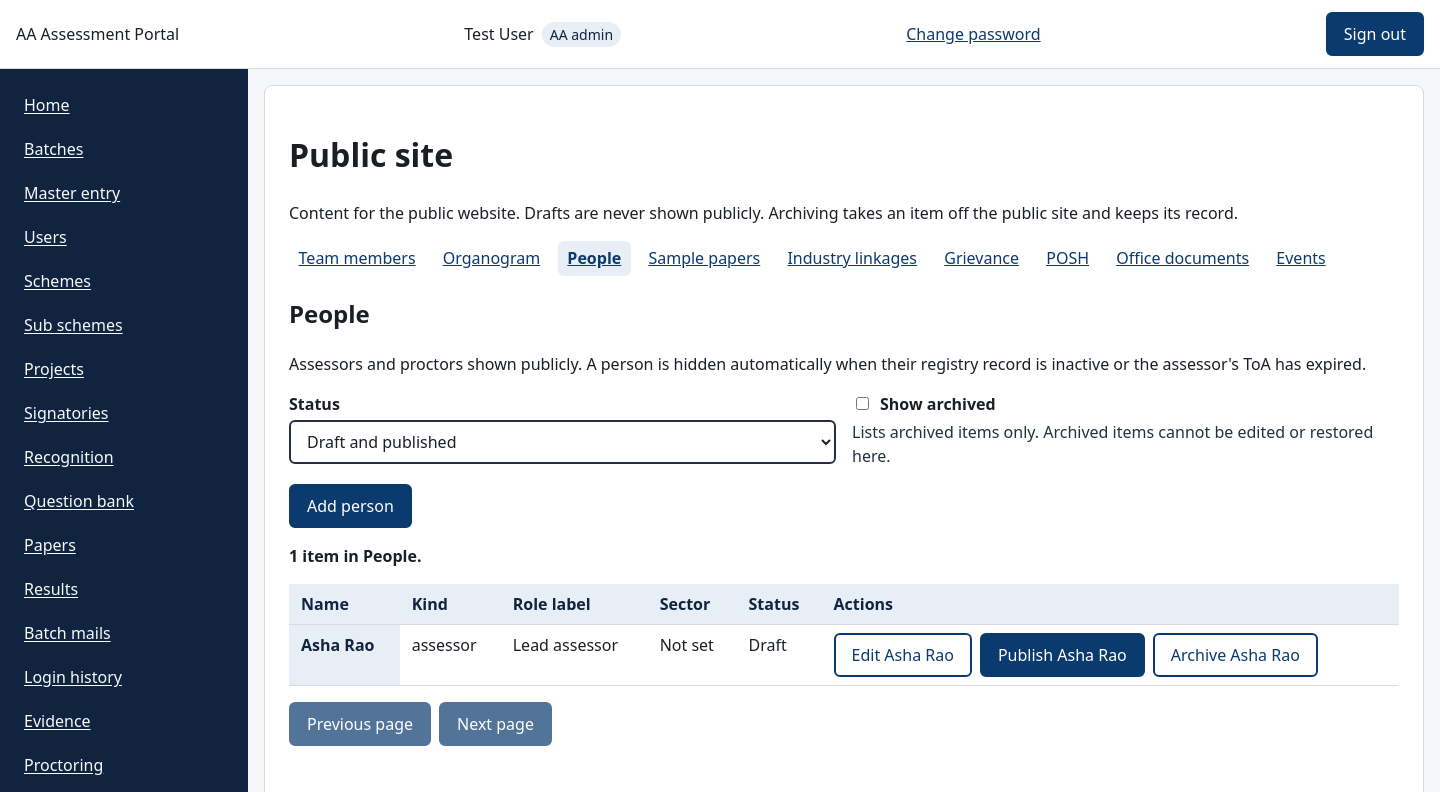
Test: explains CONSENT_REQUIRED in plain words when publishing without consent
What coordinates should you click on to do the following:
click the button "Publish Asha Rao"
I would click on:
 (1062, 655)
Its box is [980,633,1145,677].
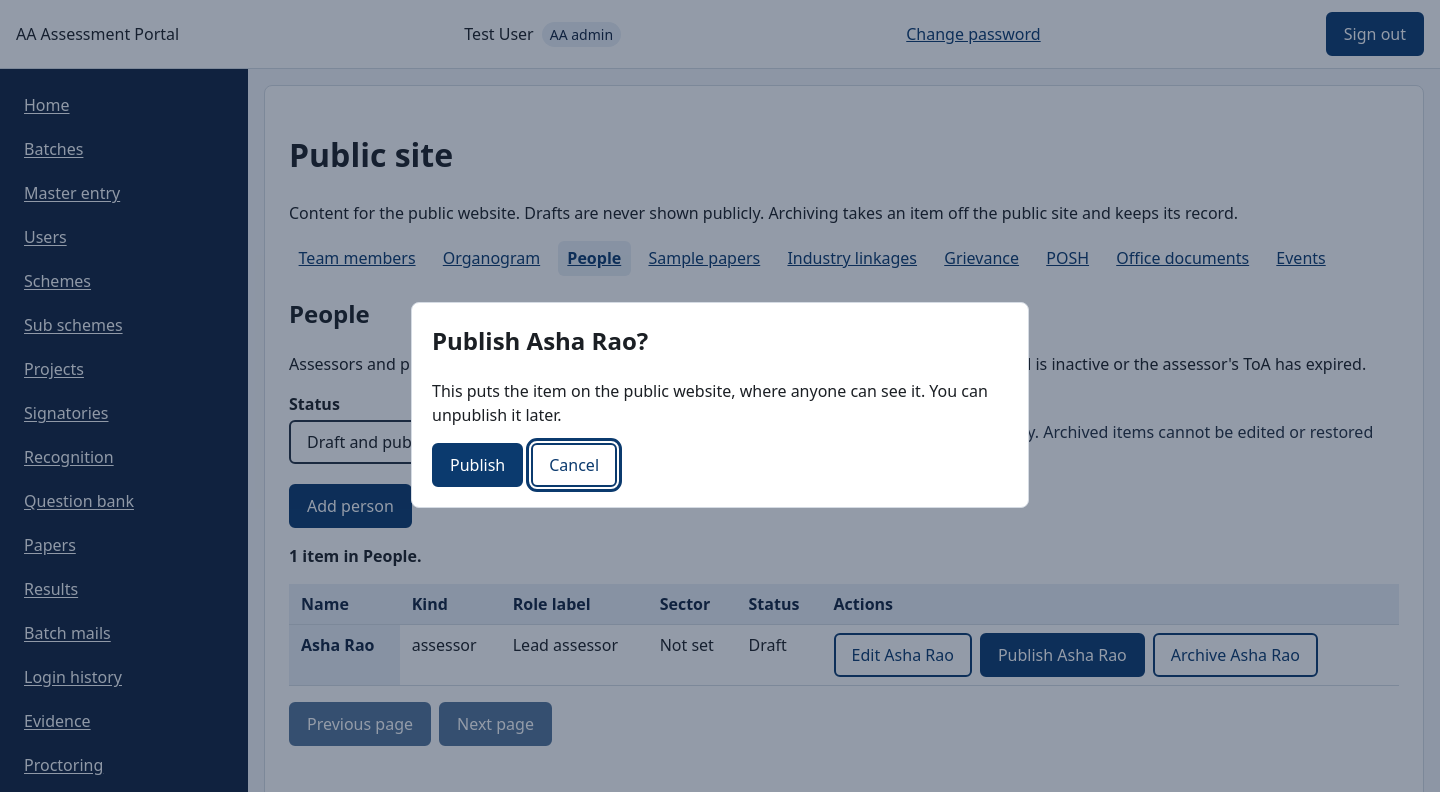
What coordinates should you click on to do the following:
click the button "Publish"
I would click on:
 (478, 465)
Its box is [432,443,523,487].
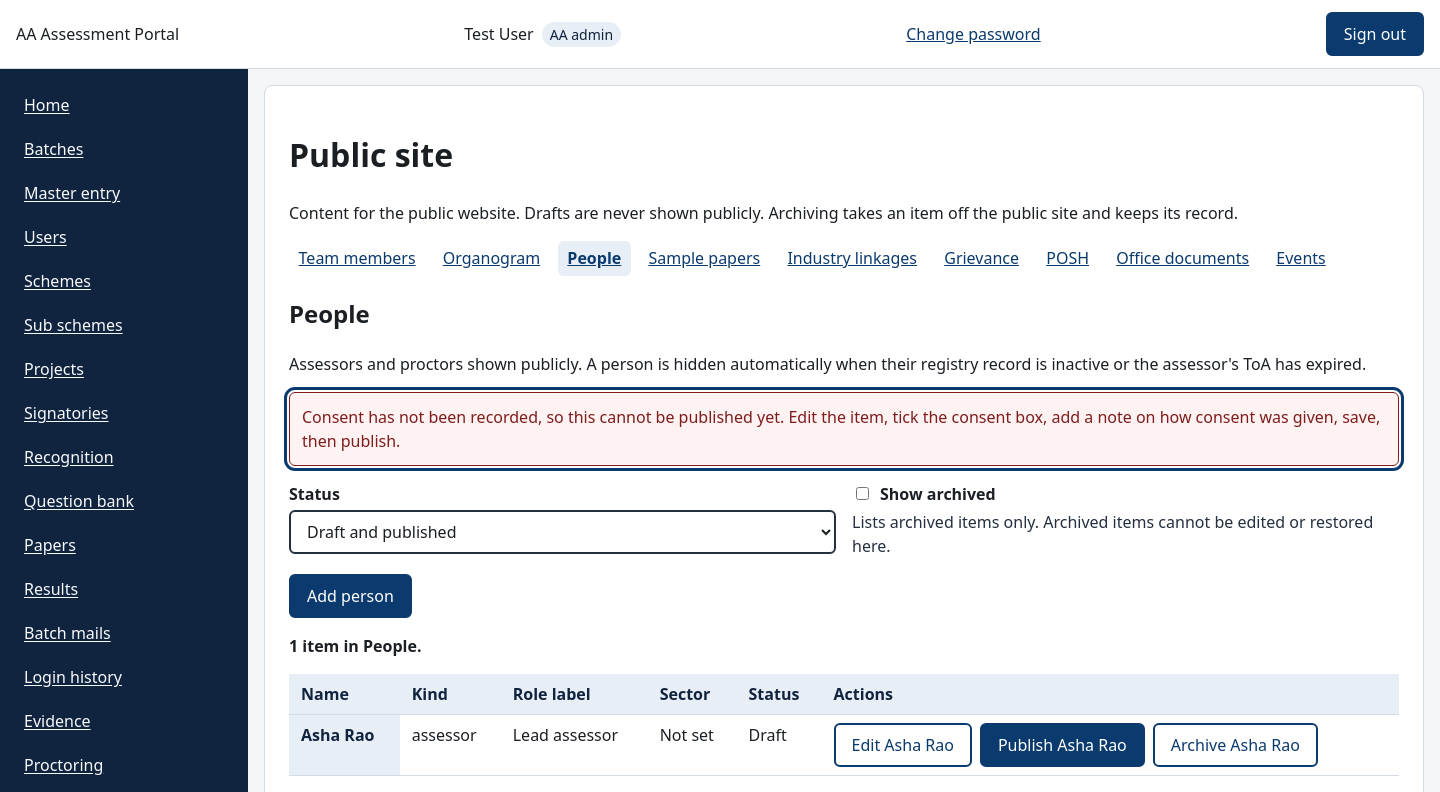
Expected: the 1st message does not show "CONSENT_REQUIRED", [289,392,1399,466]
Now the 1st message shows "Consent has not been recorded, so this cannot be published yet.", box [302,406,1380,452]
